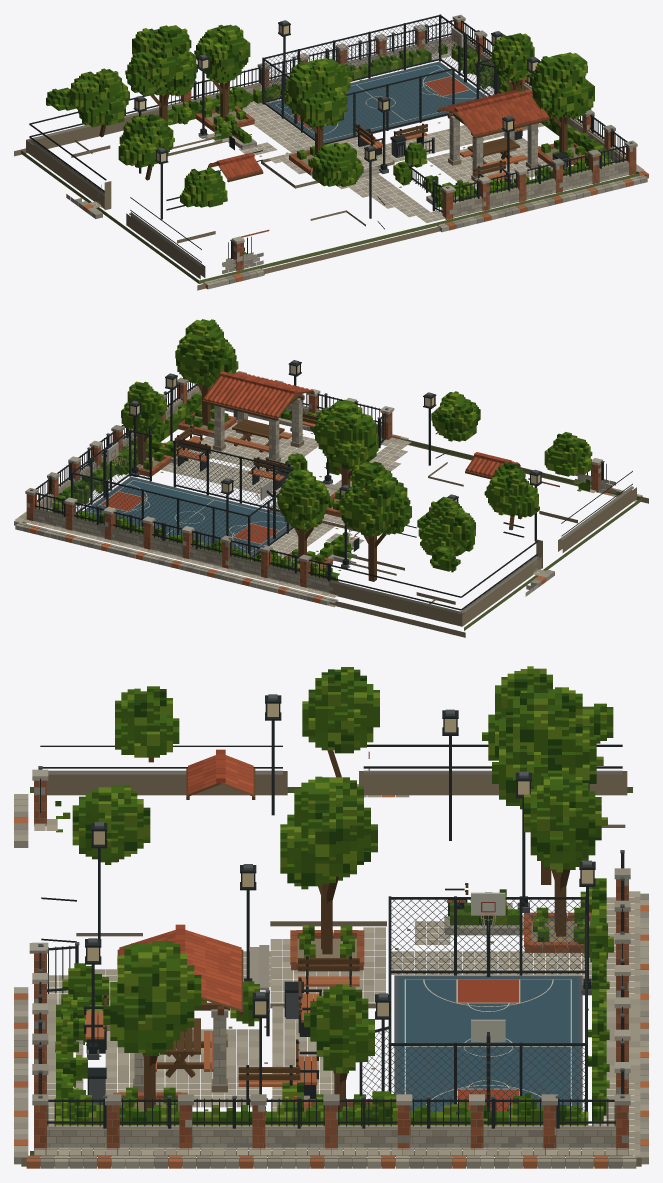
File: SM_StreetFrontage_113.fbx
The picture shows the model from 3 angles, top to bottom: view 1: azimuth 30°, elevation 25°; view 2: azimuth 150°, elevation 25°; view 3: azimuth 270°, elevation 25°; orthographic projection. The views are drawn at different scales.
Visible parts, largest first — view 1: SM_StreetFrontage_113; view 2: SM_StreetFrontage_113; view 3: SM_StreetFrontage_113.
Part boxes in pixels (x1,y1,x2,y2): SM_StreetFrontage_113: [14, 14, 648, 290]; SM_StreetFrontage_113: [14, 319, 648, 637]; SM_StreetFrontage_113: [14, 666, 648, 1168].
Size of the model in its own units: 80 by 56.85 by 19.9.
